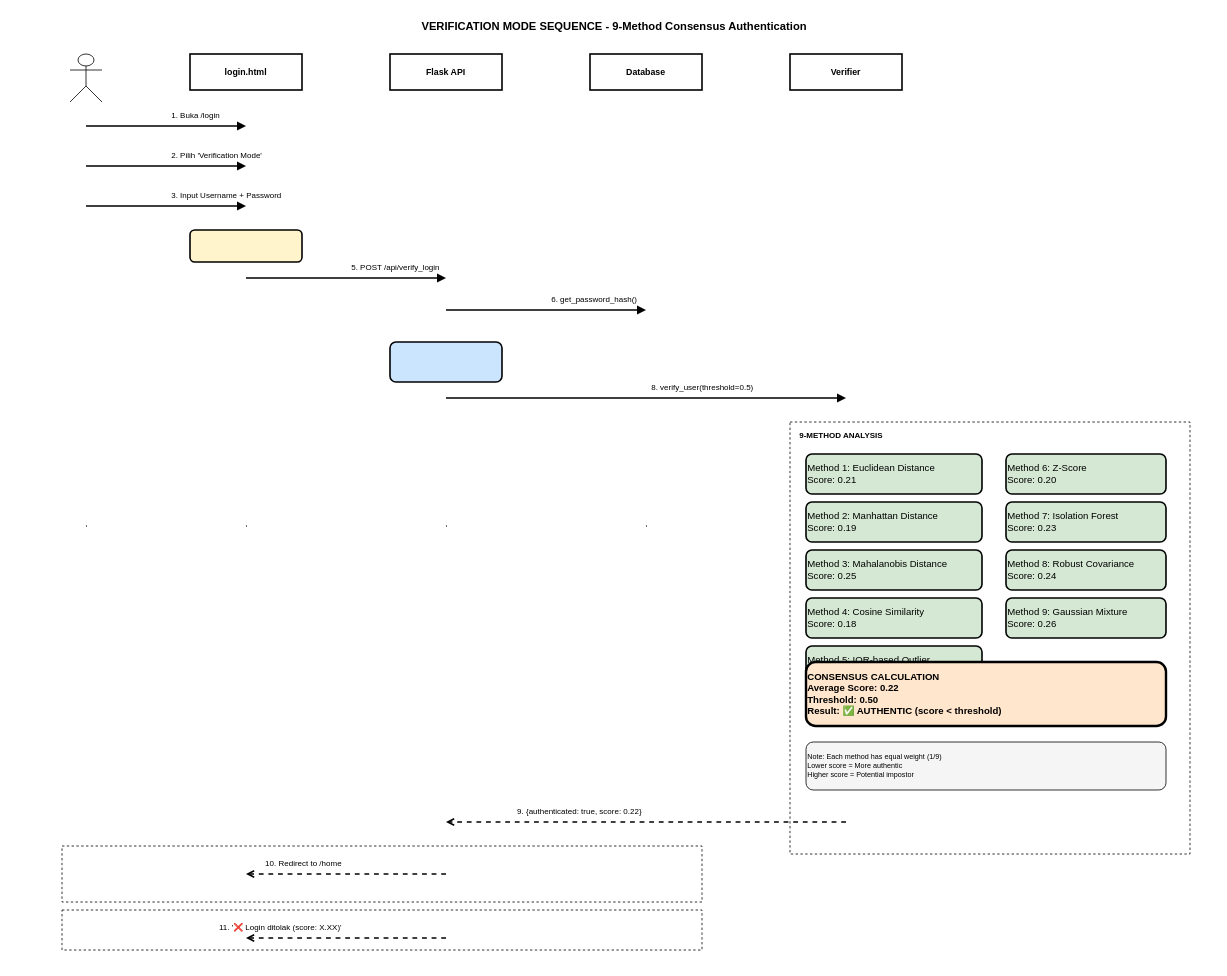
Some shapes in this 1227 by 976 pixel diagram are drawn without their labels. Here are the shapes that lost their labels. From the top down, the box of each, then its label:
(69, 53, 102, 102): Pengguna
(189, 229, 302, 262): 4. Capture Keystroke
(389, 341, 502, 382): 7. Pre-Verification Hash + Keystroke
(61, 845, 702, 902): [ALT] Authentication SUCCESS
(61, 909, 702, 950): [ELSE] Authentication FAIL
